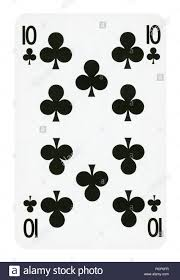ten of clubs: (15, 15, 165, 249)
